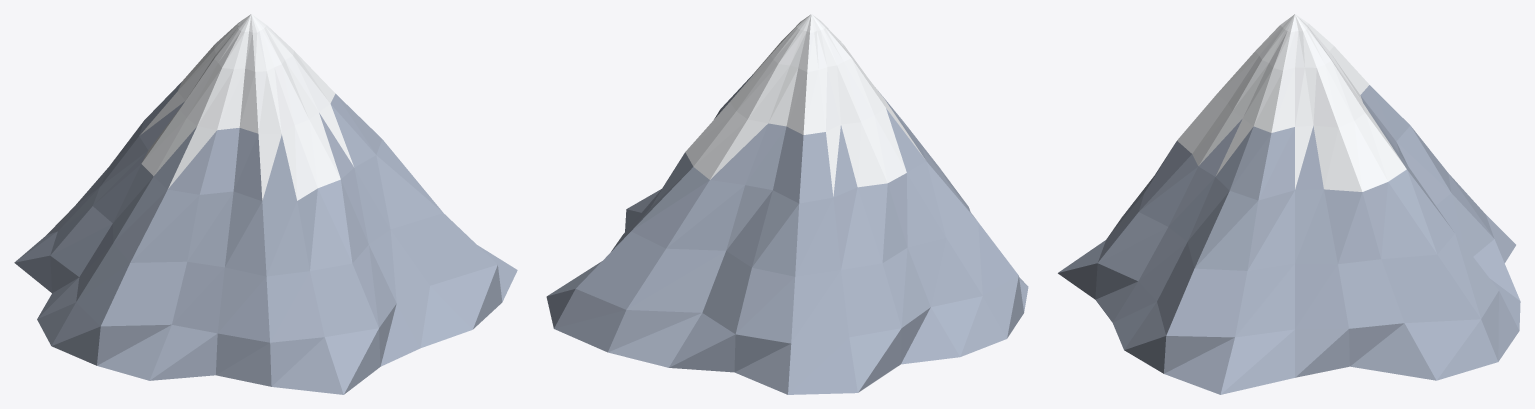
The model's file is SpleefPeak.glb.
The picture shows the model from 3 angles, left to right: view 1: azimuth 30°, elevation 25°; view 2: azimuth 150°, elevation 25°; view 3: azimuth 270°, elevation 25°; orthographic projection. The views are drawn at different scales.
Visible parts, largest first — view 1: Rock, Snow; view 2: Rock, Snow; view 3: Rock, Snow.
Boxes of the visible parts, x1,y1,x2,y2 form: Rock: (14,82,517,394); Snow: (139,14,353,200); Rock: (546,74,1028,394); Snow: (685,14,925,196); Rock: (1058,85,1520,394); Snow: (1177,14,1406,191).
Size of the model in its own units: 142 by 90 by 138.
